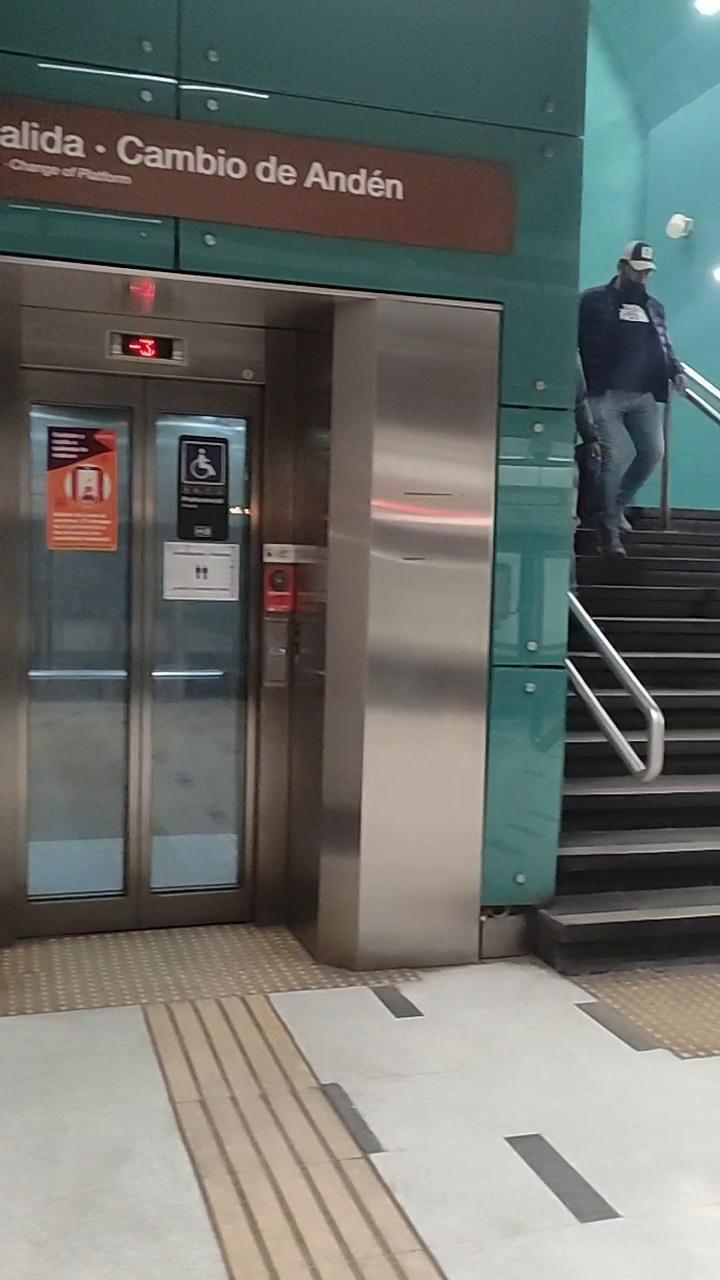handicapped symbol: (188, 447, 218, 480)
